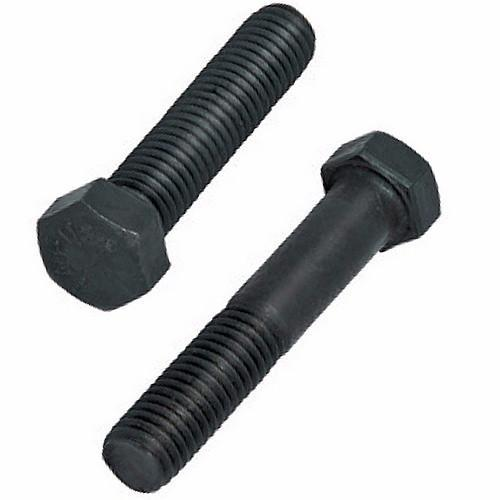Tornillo: (99, 128, 443, 496), (32, 3, 318, 312)
